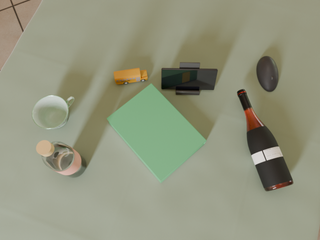book: (107, 83, 206, 183)
bottle: (237, 89, 293, 191), (36, 140, 86, 178)
cup: (32, 95, 74, 129)
mouse: (257, 56, 278, 92)
phone: (161, 68, 218, 90)
toy_car: (114, 68, 148, 84)
